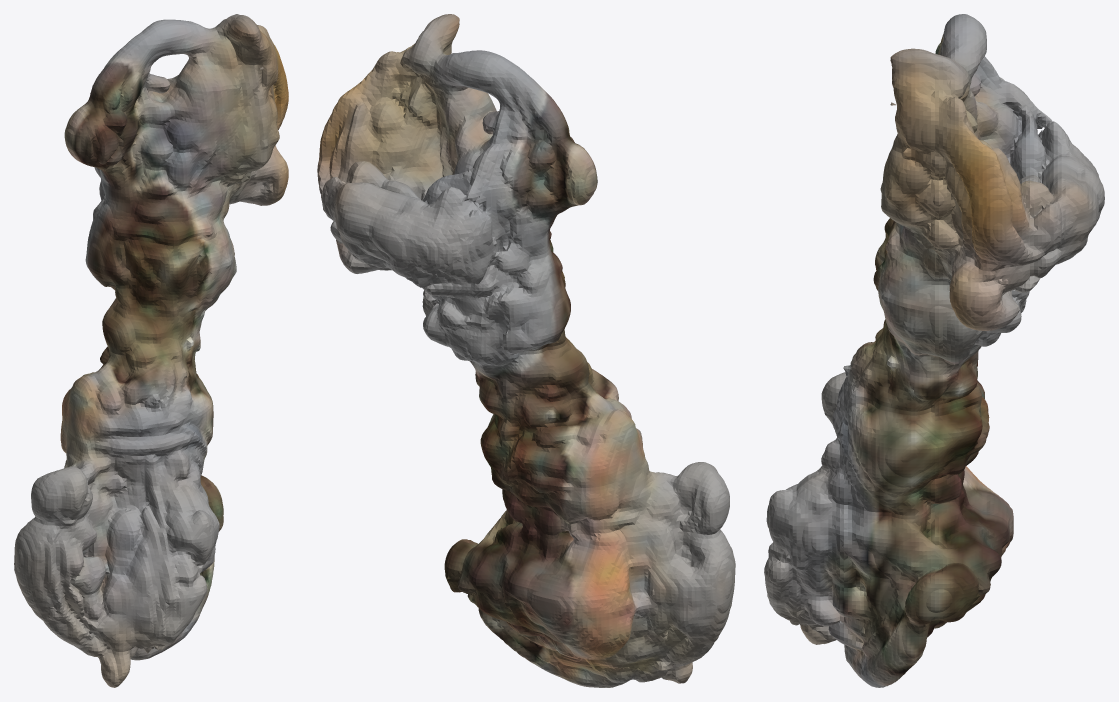
3 views of the same model, side by side, from view 1: azimuth 30°, elevation 25°; view 2: azimuth 150°, elevation 25°; view 3: azimuth 270°, elevation 25° (orthographic). The views are drawn at different scales.
Visible parts, largest first — view 1: geometry_0; view 2: geometry_0; view 3: geometry_0.
Boxes of the visible parts, box(x1,y1,x2,y2) form: geometry_0: box(14, 14, 288, 687); geometry_0: box(317, 14, 735, 687); geometry_0: box(764, 14, 1104, 687).
Size of the model in its own units: 0.4939 by 0.8774 by 0.3913.
